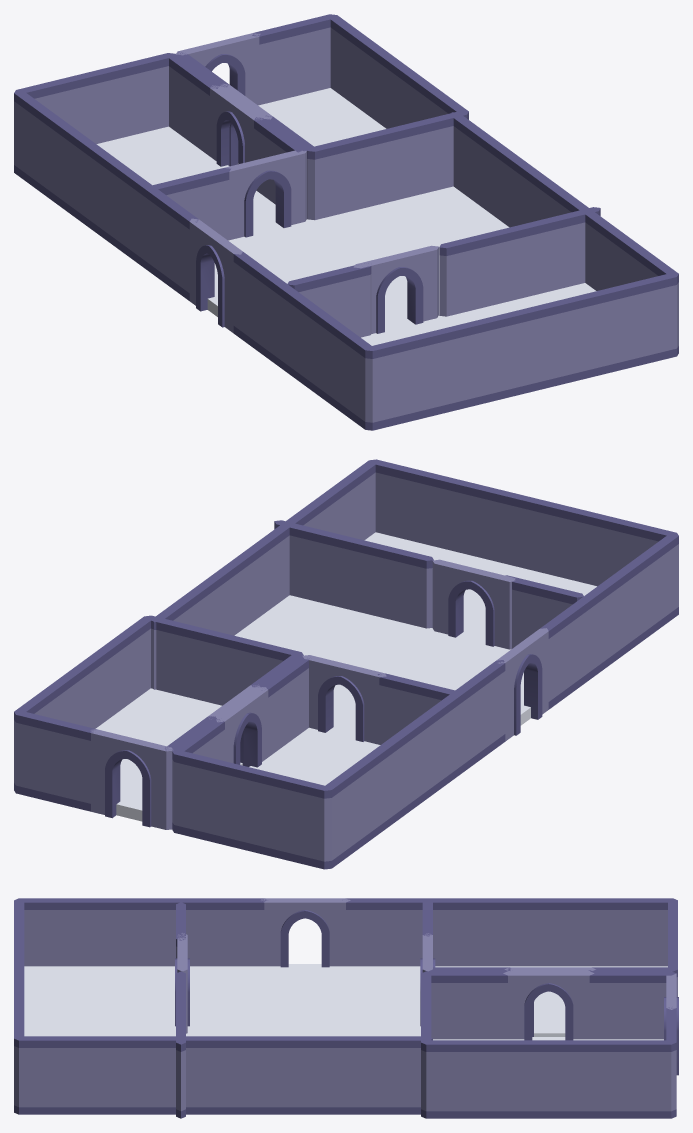
Rendered from sample_house.fbx.
3 views of the same model, one above another, from view 1: azimuth 30°, elevation 25°; view 2: azimuth 150°, elevation 25°; view 3: azimuth 270°, elevation 25° (orthographic). The views are drawn at different scales.
Parts seen in each view (by area): view 1: mergedBlocks; view 2: mergedBlocks; view 3: mergedBlocks.
Part boxes in pixels (x1=…): mergedBlocks: x1=14, y1=14, x2=678, y2=430; mergedBlocks: x1=14, y1=459, x2=678, y2=869; mergedBlocks: x1=14, y1=898, x2=678, y2=1118.
Bounding box in the file's own units: 42.71 × 10 × 81.36.
